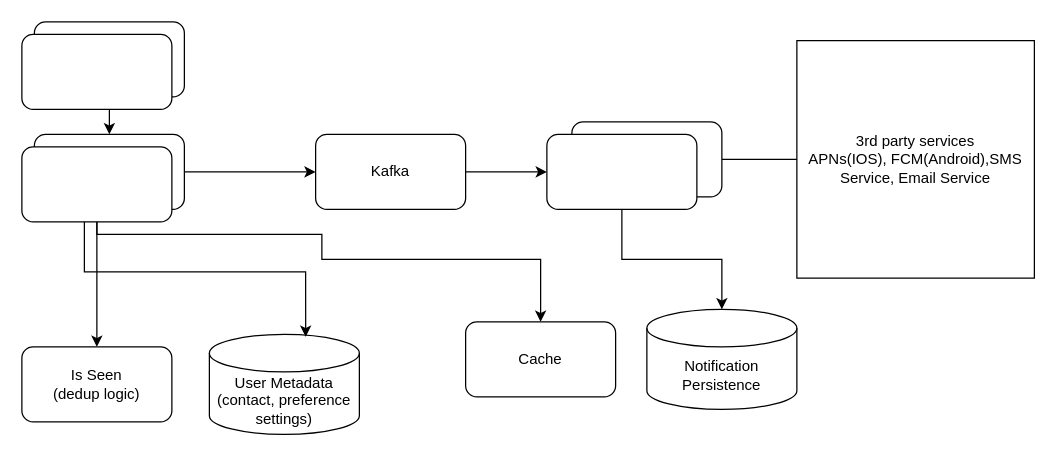
Image size: 1056x456. Some labels were removed from this diagram. The shapes that lost their labels are listed below. From the top down, each one's centre as x and y in pixels, then its label:
the point at 96,71: triggers
the point at 96,184: notification system
the point at 621,171: Workers
